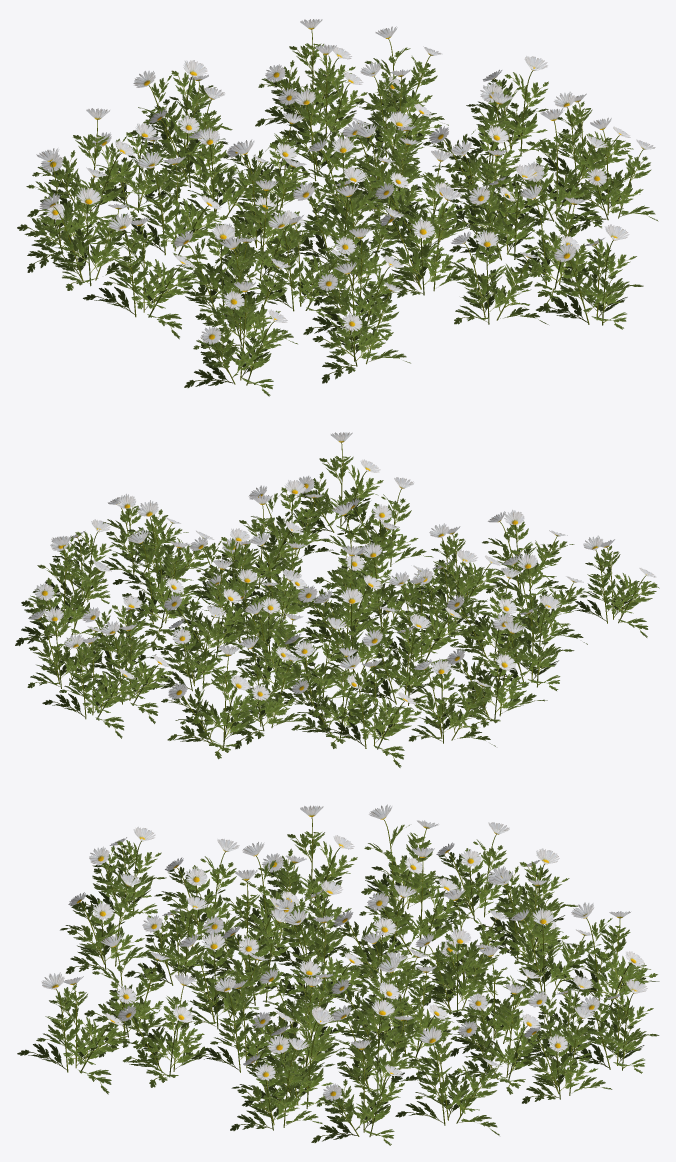
File: daisies.glb
3 renders of one model, top to bottom at view 1: azimuth 30°, elevation 25°; view 2: azimuth 150°, elevation 25°; view 3: azimuth 270°, elevation 25°, orthographic. The views are drawn at different scales.
Visible parts, largest first — view 1: Tree_1, Tree_0, Tree_2; view 2: Tree_1, Tree_0, Tree_2; view 3: Tree_1, Tree_0, Tree_2.
Part boxes in pixels (left/top/right/bottom): Tree_1: left=17, top=43, right=658, bottom=396; Tree_0: left=36, top=19, right=655, bottom=344; Tree_2: left=50, top=29, right=644, bottom=385; Tree_1: left=15, top=456, right=659, bottom=767; Tree_0: left=28, top=432, right=656, bottom=704; Tree_2: left=40, top=442, right=646, bottom=749; Tree_1: left=17, top=824, right=659, bottom=1145; Tree_0: left=41, top=804, right=647, bottom=1101; Tree_2: left=56, top=816, right=633, bottom=1136.
Bounding box in the file's own units: 4.29 × 0.8326 × 4.42.
Materials: 3 (3 with a texture image).
